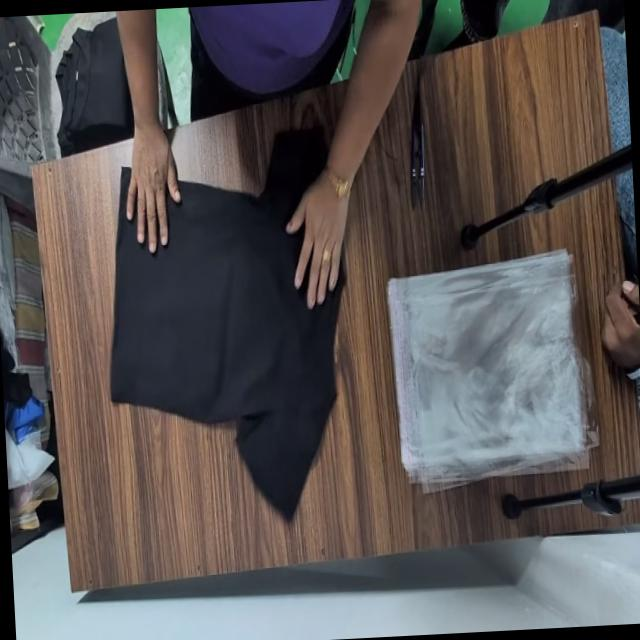new-garment: (111, 130, 342, 519)
